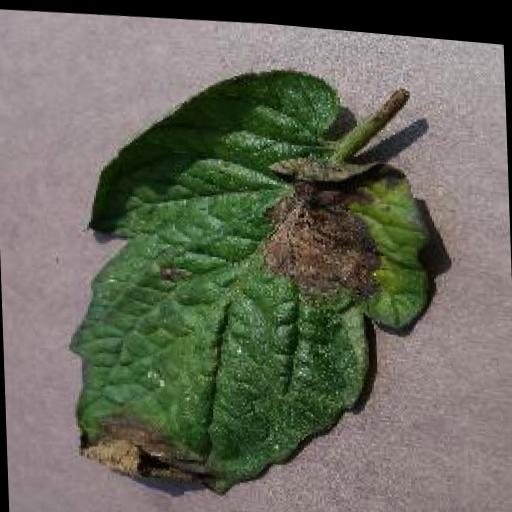Late Blight: (62, 43, 437, 512)
